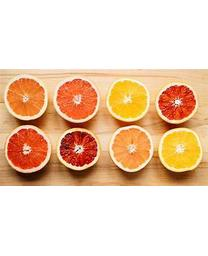lemon: (110, 127, 155, 176), (5, 70, 48, 120), (54, 78, 101, 121), (7, 125, 49, 173), (159, 127, 203, 172), (107, 77, 150, 122), (58, 129, 100, 169), (157, 83, 198, 122)
